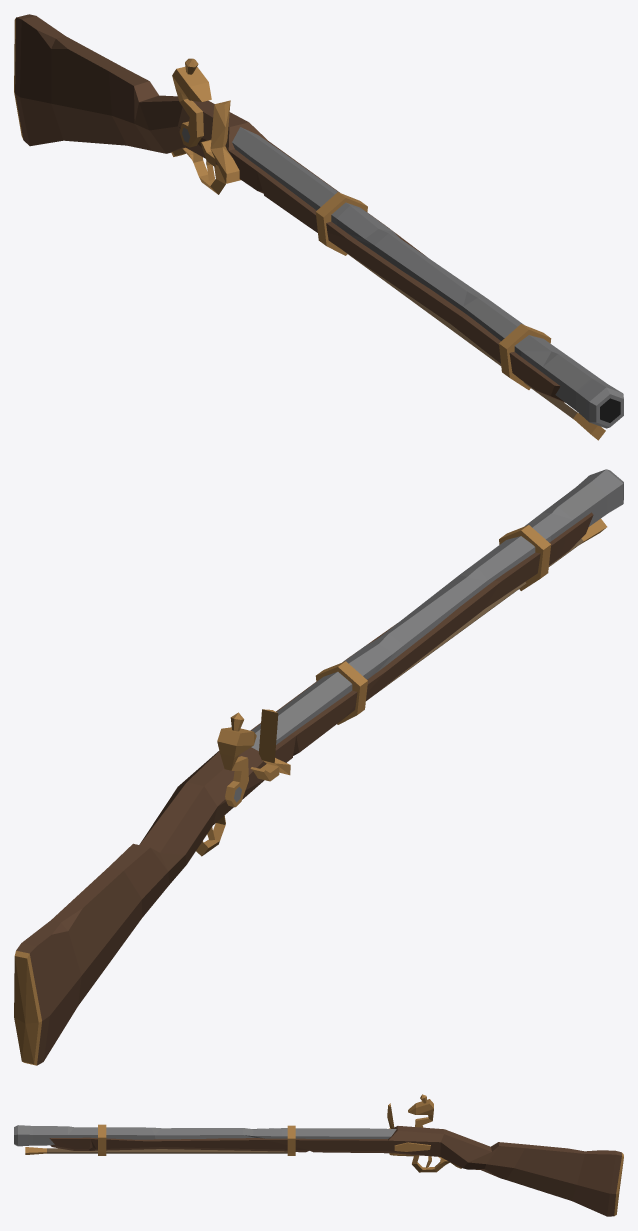
The model's file is SM_Wep_Rifle_01_Separate.glb.
3 views of the same model, one above another, from view 1: azimuth 30°, elevation 25°; view 2: azimuth 150°, elevation 25°; view 3: azimuth 270°, elevation 25° (orthographic). The views are drawn at different scales.
Visible parts, largest first — view 1: SM_Wep_Rifle_01_Trigger; view 2: SM_Wep_Rifle_01_Trigger; view 3: SM_Wep_Rifle_01_Trigger.
Boxes of the visible parts, bbox=[...] form: SM_Wep_Rifle_01_Trigger: bbox=[14, 14, 623, 440]; SM_Wep_Rifle_01_Trigger: bbox=[14, 469, 623, 1065]; SM_Wep_Rifle_01_Trigger: bbox=[14, 1094, 623, 1216].
Size of the model in its own units: 0.000828 by 0.00324 by 0.0156.
